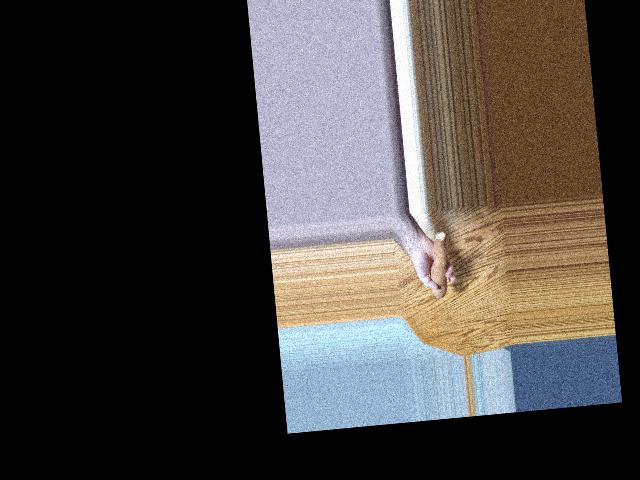sweet_potato: (425, 236, 452, 294)
